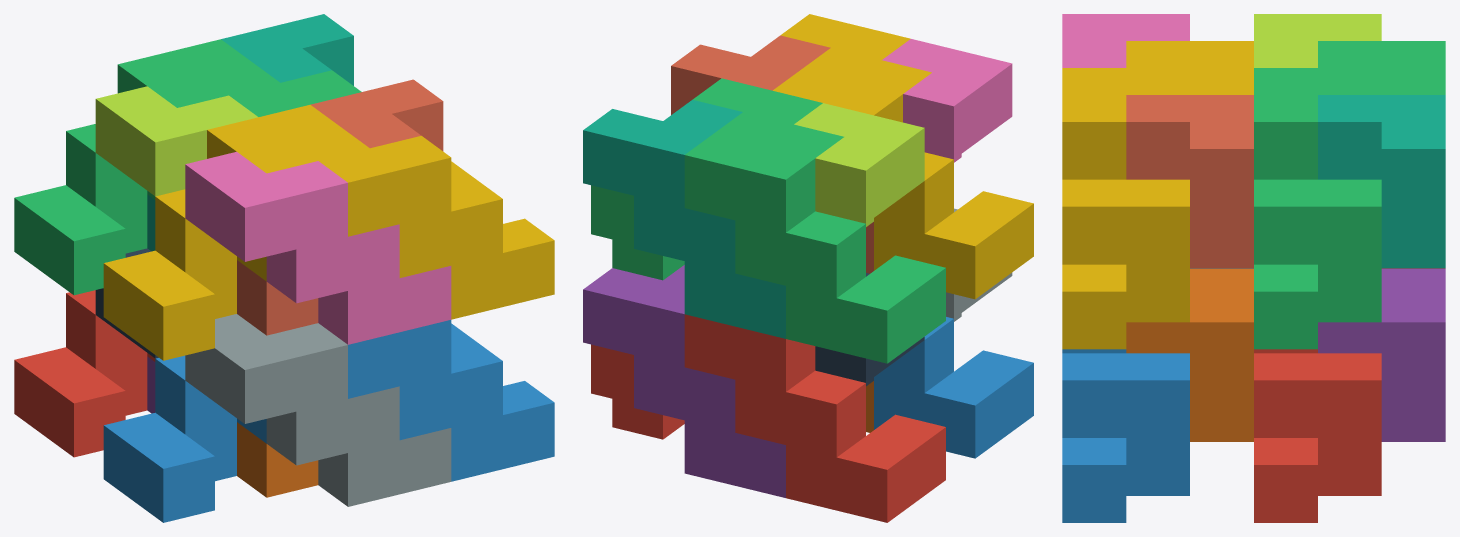
File: tiling.obj
The picture shows the model from 3 angles, left to right: view 1: azimuth 30°, elevation 25°; view 2: azimuth 150°, elevation 25°; view 3: azimuth 270°, elevation 25°; orthographic projection. The views are drawn at different scales.
Parts seen in each view (by area): view 1: copy_2_domain_4, copy_2_domain_2, copy_2_domain_8, copy_1_domain_4, copy_2_domain_6, copy_1_domain_3, copy_1_domain_2, copy_1_domain_1, copy_2_domain_3, copy_1_domain_8, copy_1_domain_7, copy_2_domain_7 (+2 smaller); view 2: copy_1_domain_3, copy_1_domain_1, copy_1_domain_7, copy_1_domain_5, copy_1_domain_4, copy_1_domain_2, copy_2_domain_3, copy_2_domain_4, copy_2_domain_7, copy_1_domain_8, copy_2_domain_8, copy_2_domain_5 (+2 smaller); view 3: copy_2_domain_8, copy_2_domain_7, copy_2_domain_6, copy_2_domain_5, copy_1_domain_7, copy_1_domain_8, copy_1_domain_5, copy_1_domain_6, copy_1_domain_3, copy_2_domain_4, copy_1_domain_4, copy_2_domain_3.
Boxes of the visible parts, bbox=[...] form: copy_2_domain_4: bbox=[185, 151, 451, 344]; copy_2_domain_2: bbox=[185, 314, 451, 506]; copy_2_domain_8: bbox=[289, 126, 554, 319]; copy_1_domain_4: bbox=[103, 104, 339, 360]; copy_2_domain_6: bbox=[348, 320, 554, 481]; copy_1_domain_3: bbox=[14, 39, 249, 295]; copy_1_domain_2: bbox=[103, 355, 266, 522]; copy_1_domain_1: bbox=[14, 290, 155, 457]; copy_2_domain_3: bbox=[95, 86, 258, 196]; copy_1_domain_8: bbox=[237, 79, 443, 335]; copy_1_domain_7: bbox=[147, 14, 353, 251]; copy_2_domain_7: bbox=[199, 61, 361, 116]; copy_1_domain_3: bbox=[684, 124, 945, 363]; copy_1_domain_1: bbox=[684, 314, 945, 522]; copy_1_domain_7: bbox=[583, 100, 785, 338]; copy_1_domain_5: bbox=[583, 265, 785, 497]; copy_1_domain_4: bbox=[773, 60, 1033, 299]; copy_1_domain_2: bbox=[874, 317, 1033, 458]; copy_2_domain_3: bbox=[794, 103, 924, 226]; copy_2_domain_4: bbox=[882, 39, 1012, 162]; copy_2_domain_7: bbox=[591, 78, 822, 280]; copy_1_domain_8: bbox=[671, 35, 873, 273]; copy_2_domain_8: bbox=[780, 14, 910, 81]; copy_2_domain_5: bbox=[591, 344, 684, 439]; copy_2_domain_8: bbox=[1062, 68, 1189, 349]; copy_2_domain_7: bbox=[1254, 68, 1381, 349]; copy_2_domain_6: bbox=[1062, 349, 1189, 522]; copy_2_domain_5: bbox=[1254, 349, 1381, 522]; copy_1_domain_7: bbox=[1318, 95, 1445, 268]; copy_1_domain_8: bbox=[1126, 95, 1253, 268]; copy_1_domain_5: bbox=[1318, 268, 1445, 441]; copy_1_domain_6: bbox=[1126, 268, 1253, 441]; copy_1_domain_3: bbox=[1318, 41, 1445, 94]; copy_2_domain_4: bbox=[1062, 14, 1189, 67]; copy_1_domain_4: bbox=[1126, 41, 1253, 94]; copy_2_domain_3: bbox=[1254, 14, 1381, 67].
Bounding box in the file's own units: 7 × 6 × 6.
